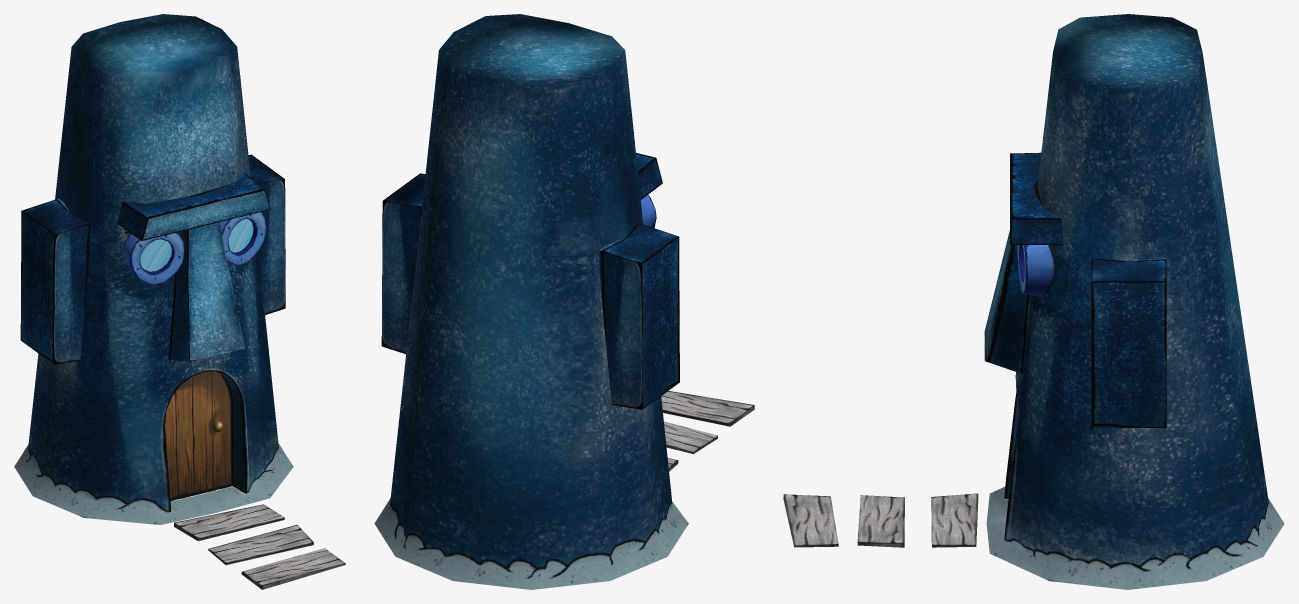
The model's file is patty_pursuit__squidward_house.glb.
The picture shows the model from 3 angles, left to right: view 1: azimuth 30°, elevation 25°; view 2: azimuth 150°, elevation 25°; view 3: azimuth 270°, elevation 25°; orthographic projection. The views are drawn at different scales.
Visible parts, largest first — view 1: Object_2; view 2: Object_2; view 3: Object_2.
Boxes of the visible parts, bbox=[...] form: Object_2: bbox=[14, 14, 345, 589]; Object_2: bbox=[374, 14, 754, 589]; Object_2: bbox=[783, 14, 1284, 589].
Bounding box in the file's own units: 7.44 × 12.35 × 11.89.
1 material, 1 textured.
